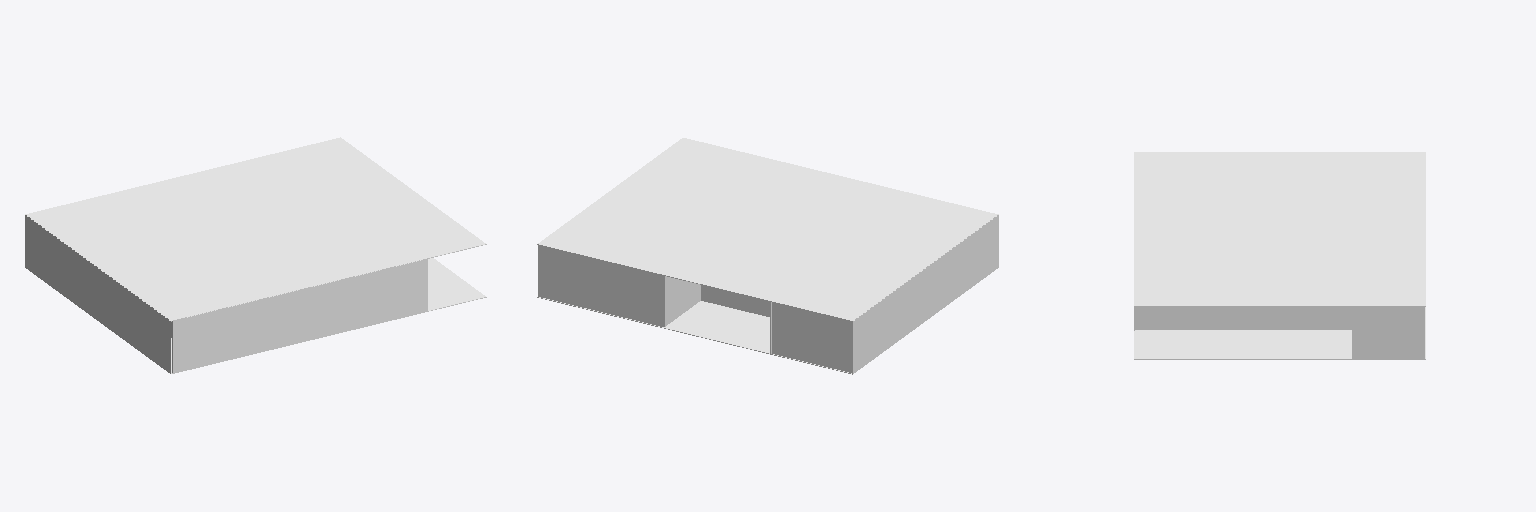
The model's file is fakedoor.obj.
3 views of the same model, side by side, from view 1: azimuth 30°, elevation 25°; view 2: azimuth 150°, elevation 25°; view 3: azimuth 270°, elevation 25° (orthographic).
Parts seen in each view (by area): view 1: metal02.png, concretewall03a.png, concretefloor01d.png; view 2: metal02.png, concretewall03a.png, concretefloor01d.png; view 3: metal02.png, concretewall03a.png, concretefloor01d.png.
Part boxes in pixels (x1,y1,x2,y2): metal02.png: (25, 137, 486, 321); concretewall03a.png: (25, 215, 427, 373); concretefloor01d.png: (53, 258, 486, 373); metal02.png: (537, 138, 998, 321); concretewall03a.png: (538, 215, 998, 373); concretefloor01d.png: (537, 288, 970, 374); metal02.png: (1134, 152, 1425, 306); concretewall03a.png: (1134, 307, 1424, 359); concretefloor01d.png: (1134, 307, 1425, 359).
Bounding box in the file's own units: 501 × 81 × 400.